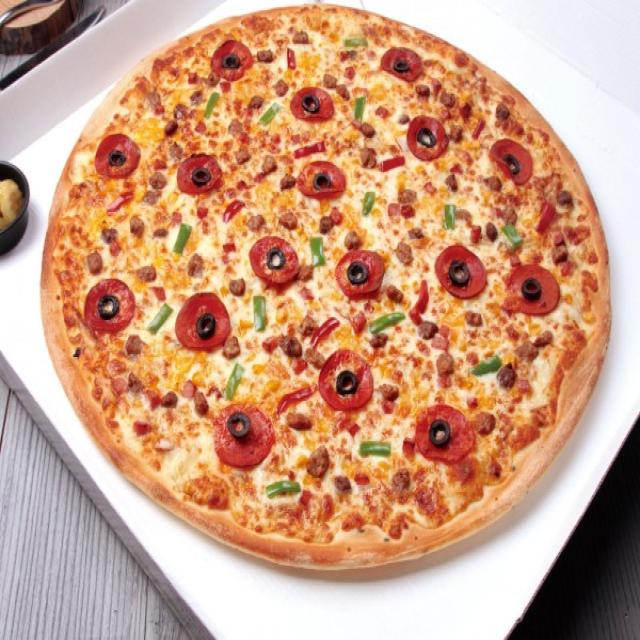Wet Waste: (36, 0, 614, 582)
